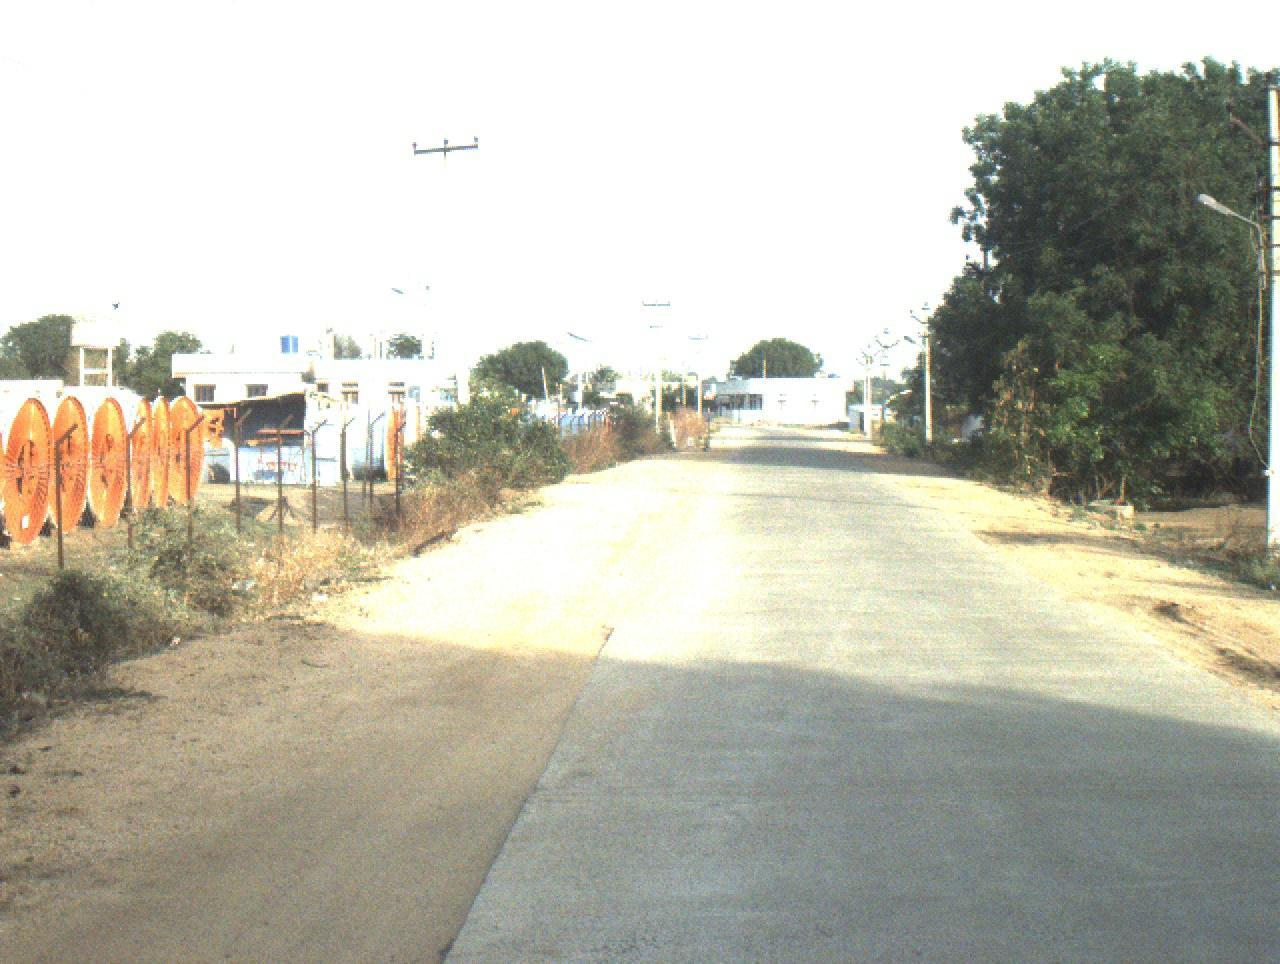off: (230, 81, 1280, 857)
